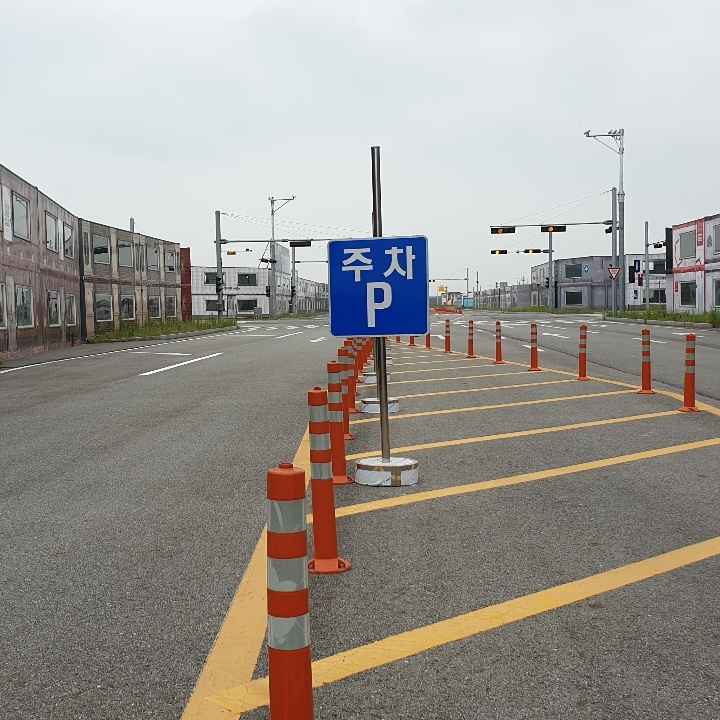parking: (359, 275, 397, 331)
